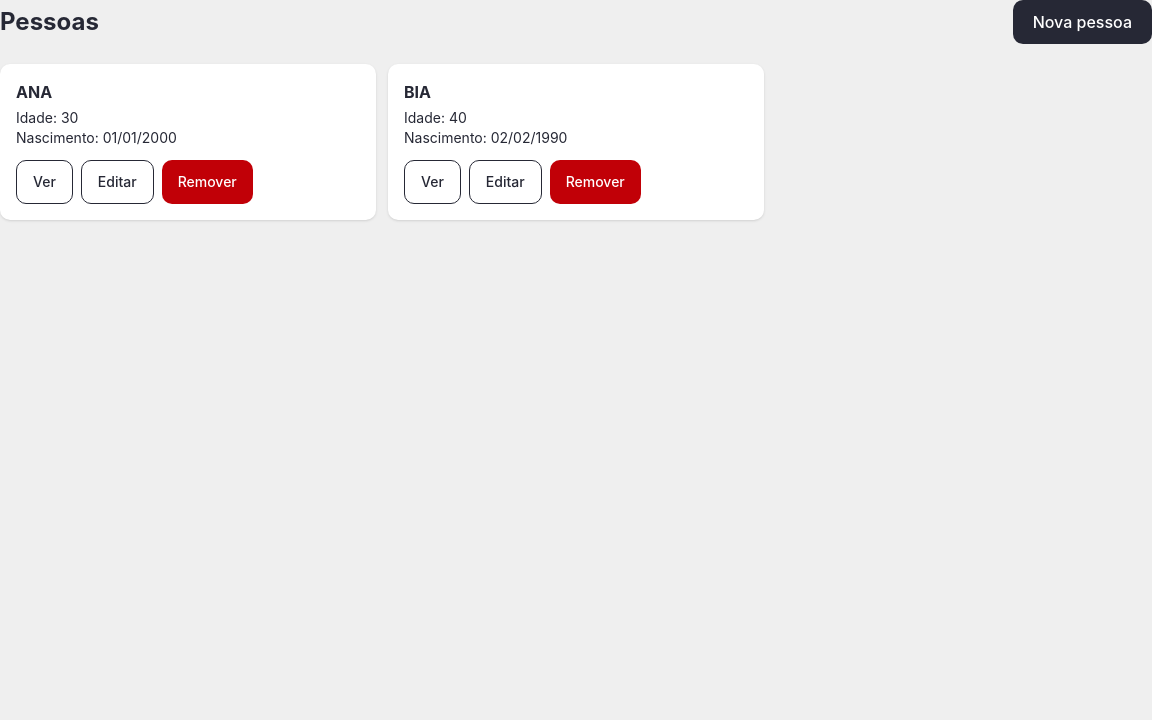
it: PessoaListPageComponent › should show the details of a person in a dialog and close it
Step 1. Click the button "Ver" below "Bia" → click(432, 182), box [404,160,461,204]
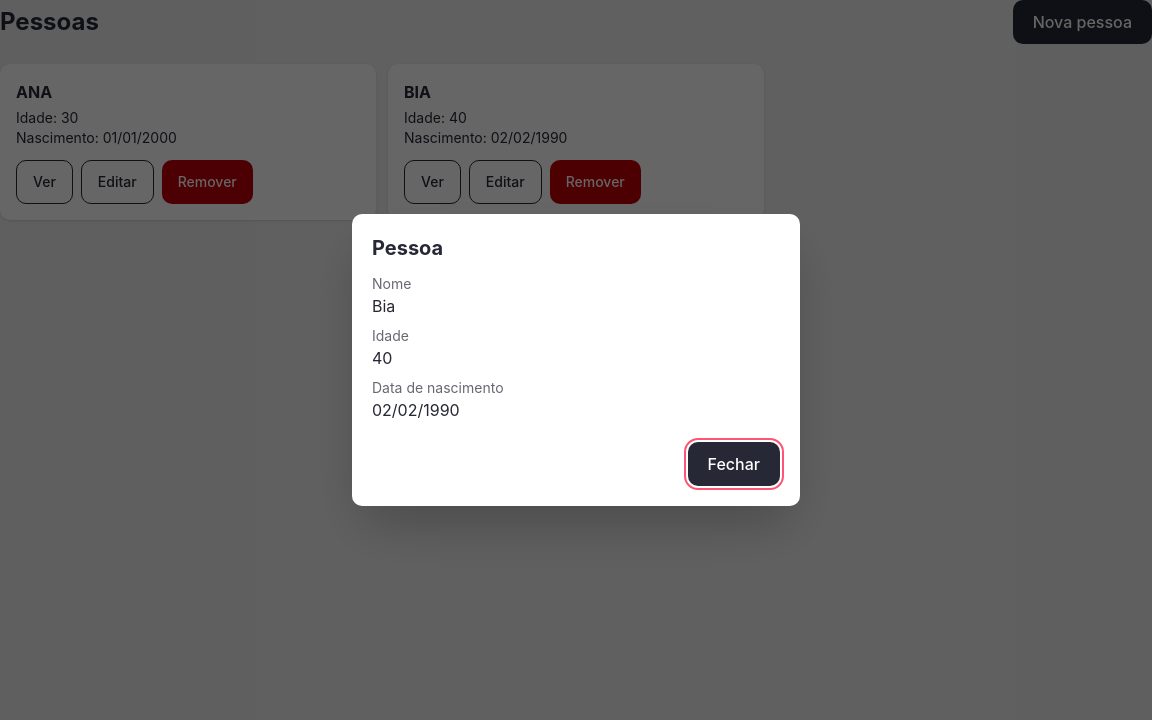
Expected: the dialog shows "Bia", [372,296,395,316]
Expected: the dialog shows "40", [372,348,392,368]
Expected: the dialog shows "02/02/1990", [372,400,460,420]
Step 2. Click the button "Fechar" → click(734, 464), box [688,442,780,486]
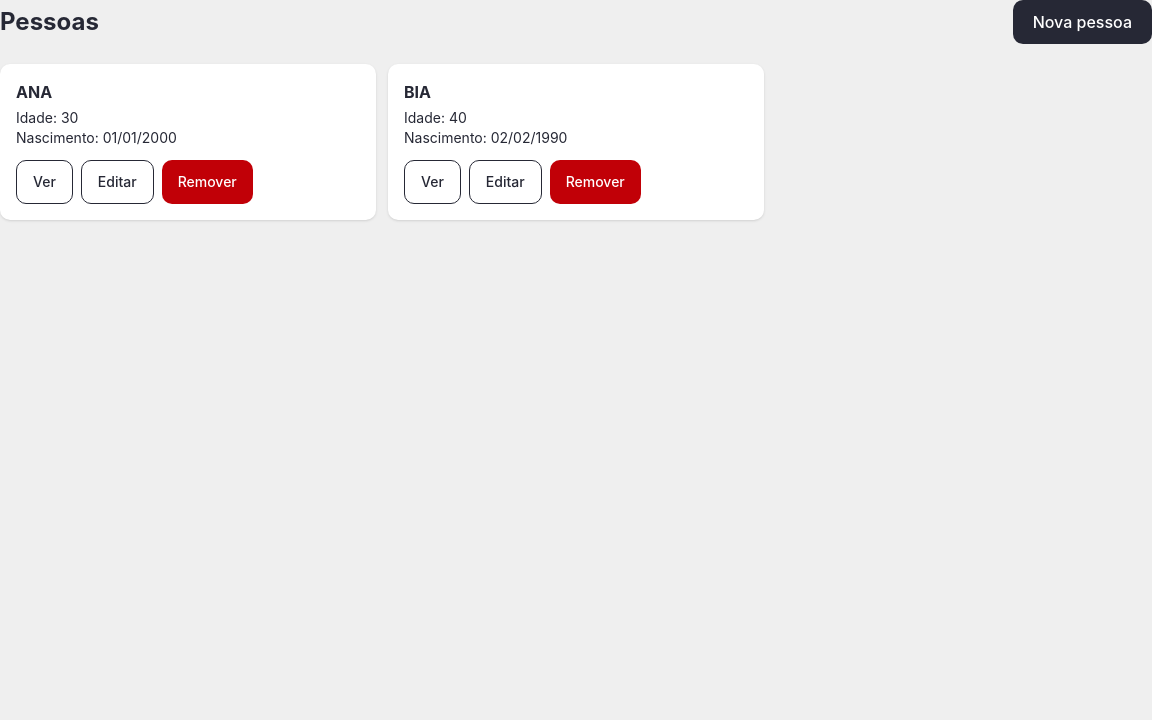
Expected: the dialog is gone
